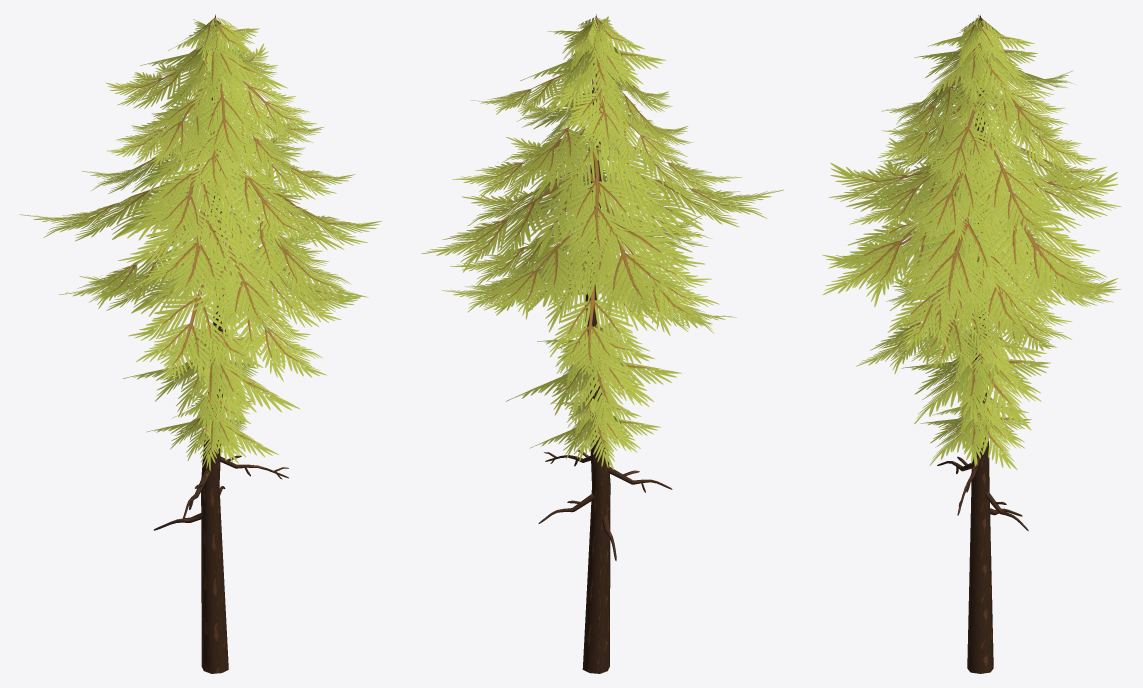
The model's file is PineTree_2_upright.glb.
The picture shows the model from 3 angles, left to right: view 1: azimuth 30°, elevation 25°; view 2: azimuth 150°, elevation 25°; view 3: azimuth 270°, elevation 25°; orthographic projection.
Visible parts, largest first — view 1: PineTree_2; view 2: PineTree_2; view 3: PineTree_2.
Part boxes in pixels (<box>): PineTree_2: <box>19,14,381,673</box>; PineTree_2: <box>421,14,783,673</box>; PineTree_2: <box>822,14,1121,673</box>.
Size of the model in its own units: 3.28 by 6.91 by 2.98.
Materials: 2 (2 with a texture image).
